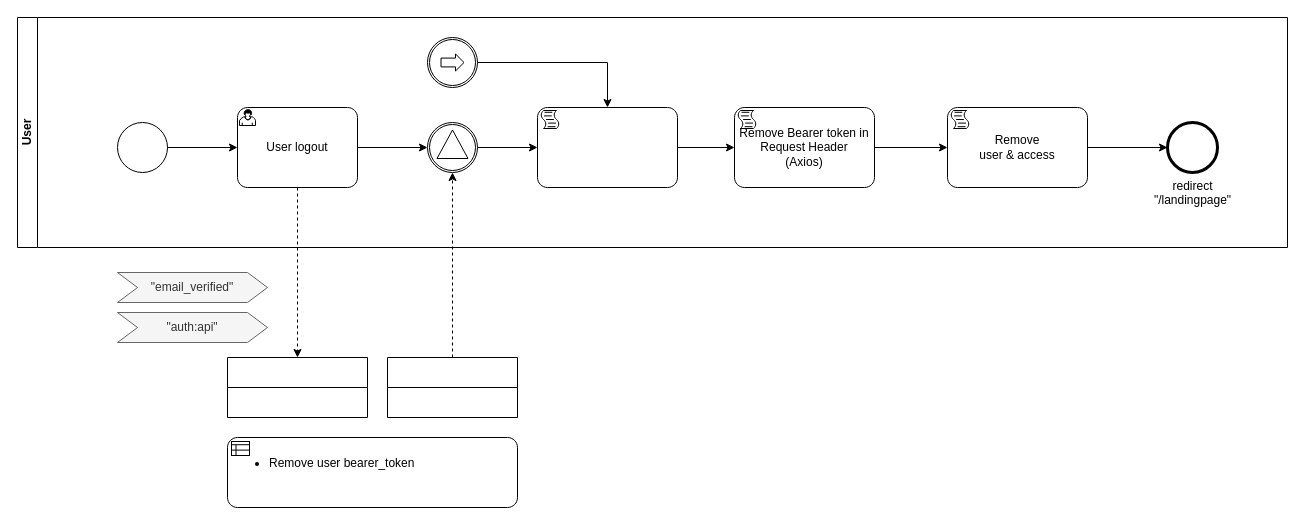
Image size: 1305x525. Some labels were removed from this diagram. The shapes that lost their labels are listed below. From the top down, each one's box as (x1, y1, x2, y2) in pixels, then its label:
(426, 36, 478, 88): logout()
(536, 106, 678, 188): Remove Bearer in Local Storage (Client)
(226, 356, 368, 418): Post "/logout"
(386, 356, 518, 418): Response
